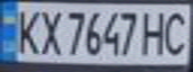4: (103, 8, 124, 56)
6: (81, 8, 106, 56)
7: (60, 7, 84, 56), (118, 8, 142, 56)
C: (160, 7, 193, 56)
H: (139, 8, 172, 56)
K: (9, 6, 42, 55)
X: (33, 7, 63, 56)
